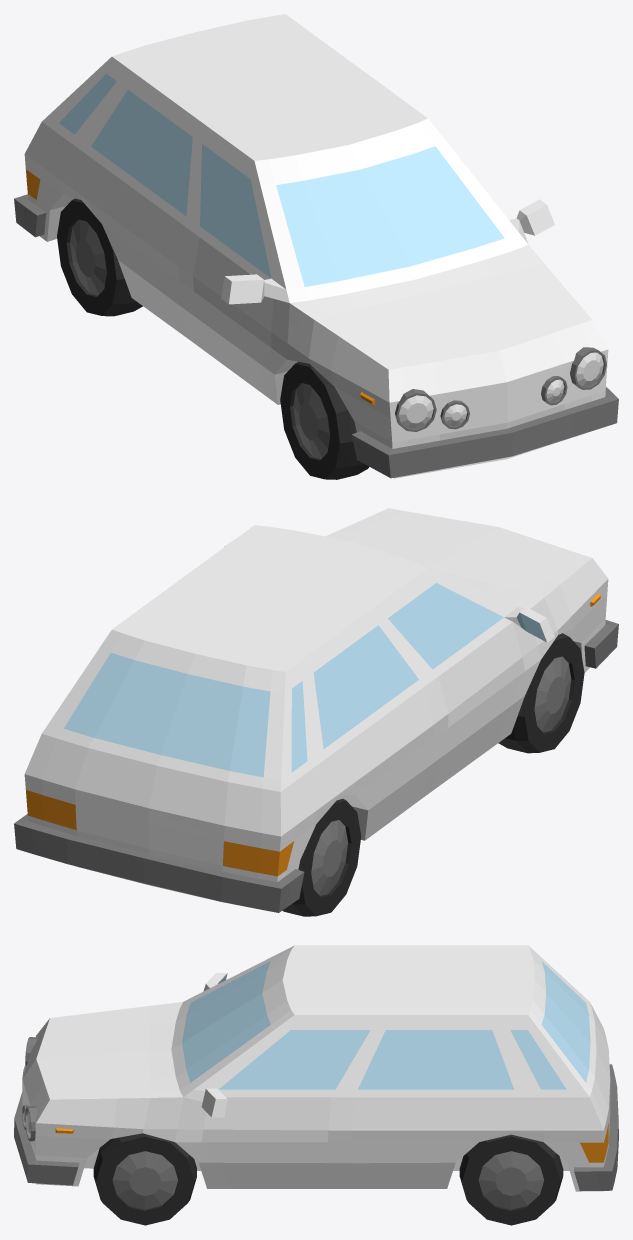
The model's file is car_white.glb.
3 views of the same model, one above another, from view 1: azimuth 30°, elevation 25°; view 2: azimuth 150°, elevation 25°; view 3: azimuth 270°, elevation 25° (orthographic). The views are drawn at different scales.
Parts seen in each view (by area): view 1: 1377 Car; view 2: 1377 Car; view 3: 1377 Car.
Part boxes in pixels (x1,y1,x2,y2): 1377 Car: (14, 14, 618, 479); 1377 Car: (14, 508, 618, 916); 1377 Car: (14, 945, 618, 1225).
Size of the model in its own units: 45.5 by 32.33 by 89.11.
Materials: 1 (1 with a texture image).
